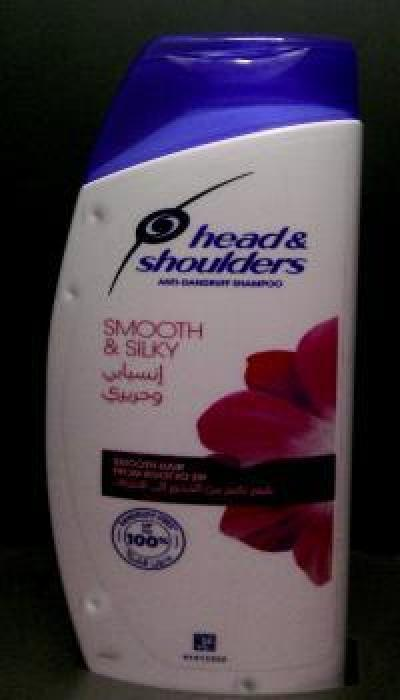dent_marg: (74, 588, 118, 618), (56, 279, 96, 309), (227, 669, 273, 693), (83, 199, 117, 229), (87, 644, 133, 666)
